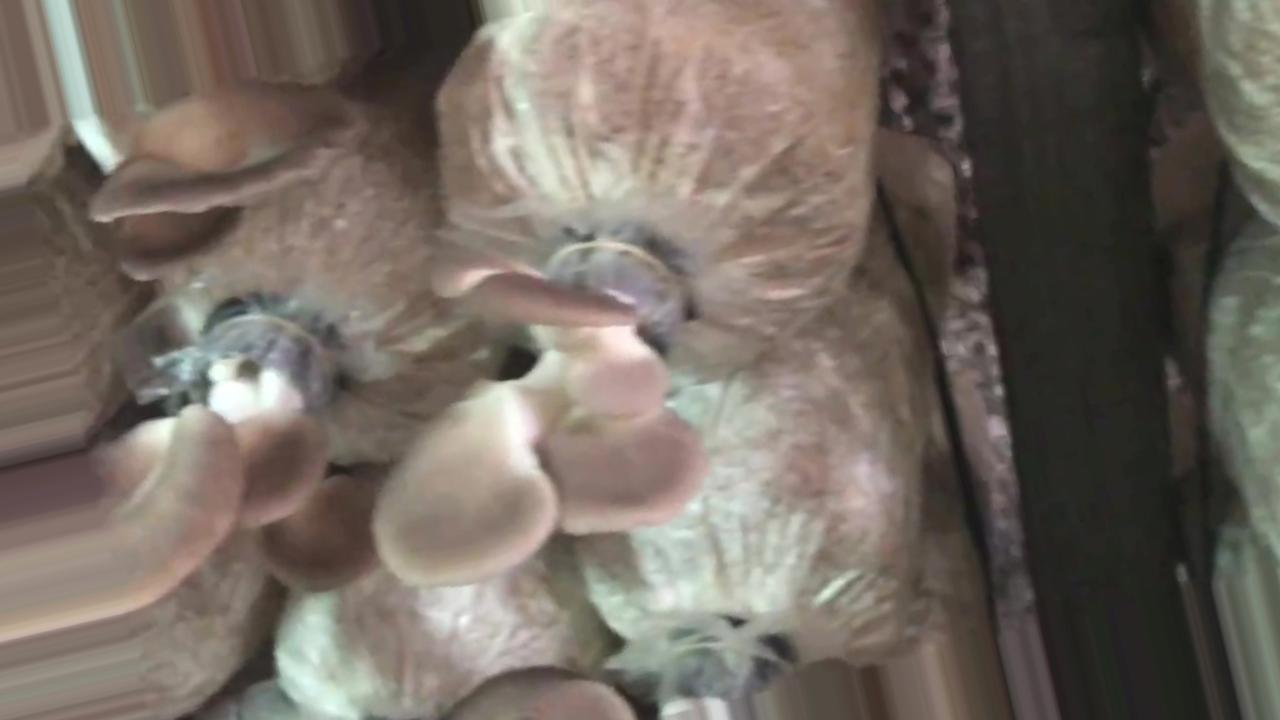nam: (375, 231, 709, 587), (134, 303, 353, 600)
